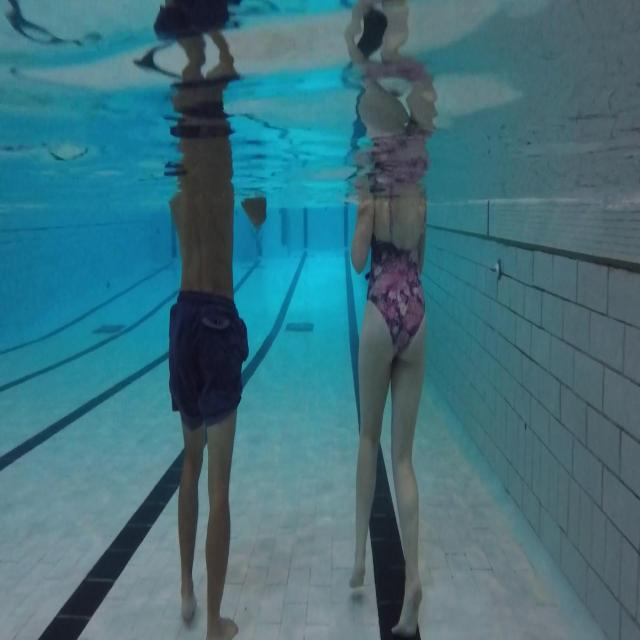human: (132, 1, 267, 637), (343, 1, 438, 637)
